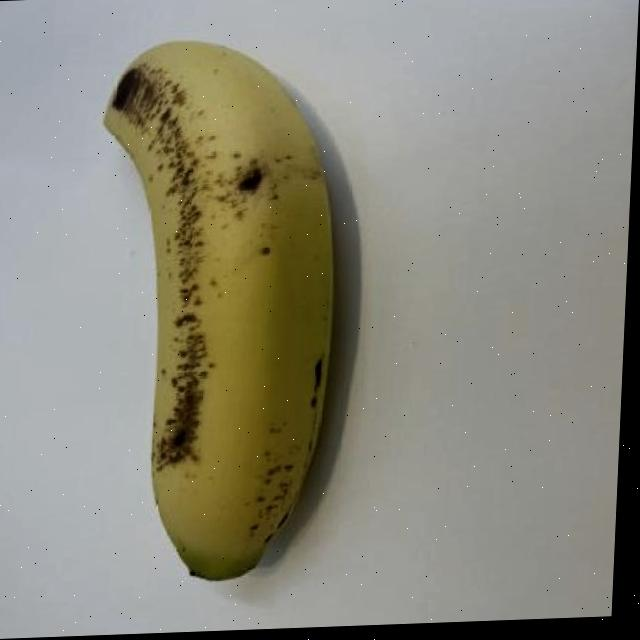banana: (80, 31, 349, 584)
